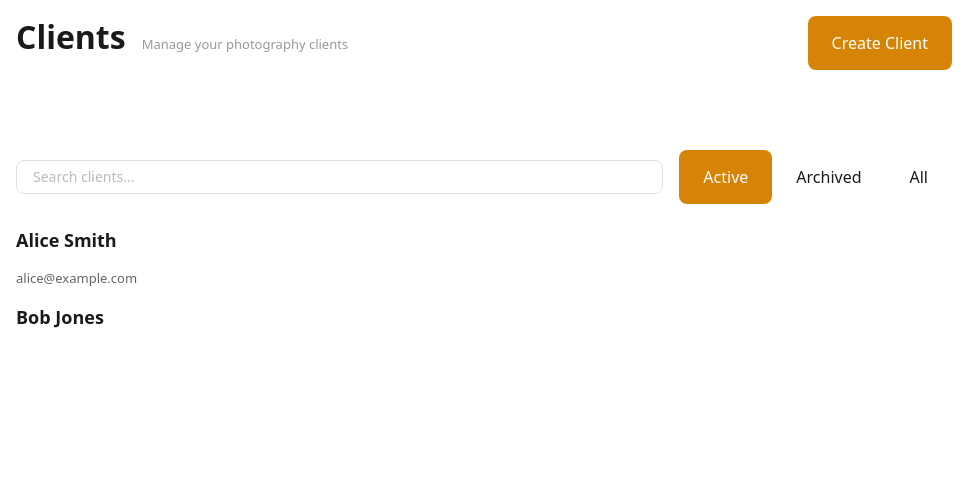
Test: Clients › navigates to client detail on click
What coordinates should you click on to do the following:
click the heading "Alice Smith"
I would click on:
 (66, 240)
Its box is x1=16 y1=228 x2=117 y2=252.
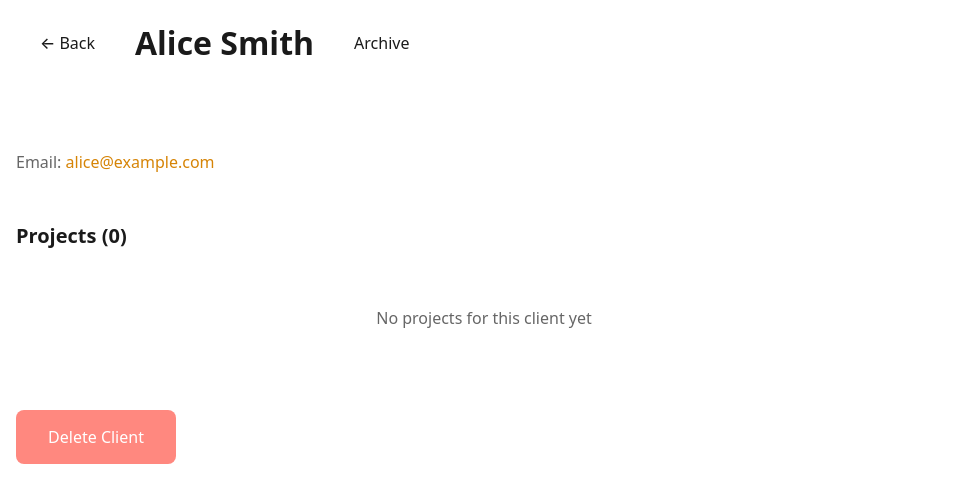
Result: the button "← Back" is shown at x1=16 y1=16 x2=119 y2=70
Result: the heading "Projects (0)" is shown at x1=16 y1=222 x2=127 y2=249
